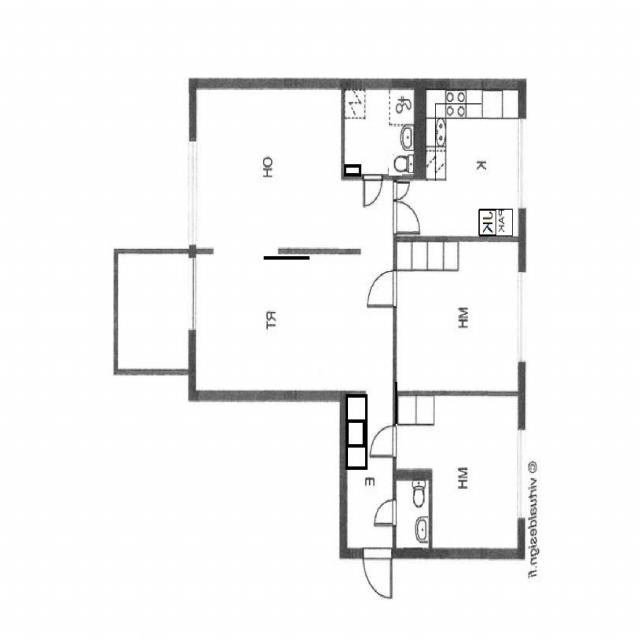door: (363, 549, 391, 598), (188, 331, 222, 368), (368, 271, 397, 307), (392, 201, 418, 233), (371, 426, 396, 456), (363, 175, 382, 206), (374, 500, 396, 526), (393, 183, 408, 199)
